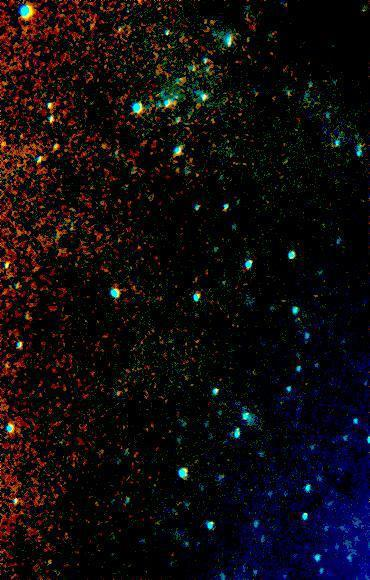star: (0, 129, 19, 159)
